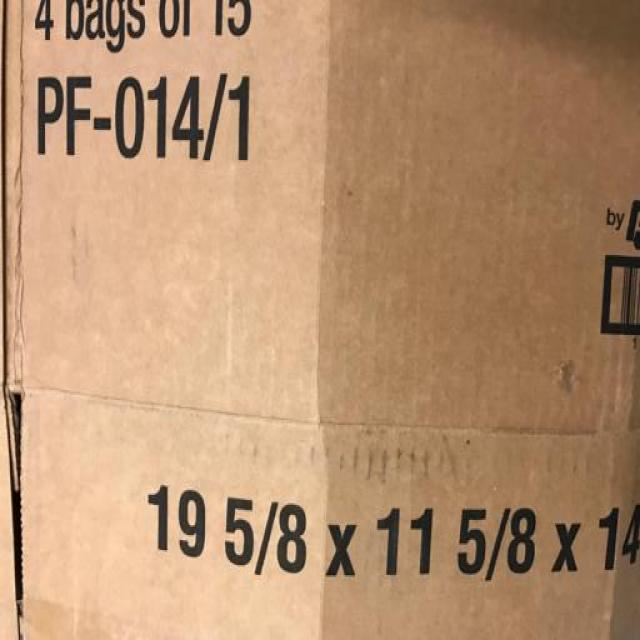cardboard: (2, 1, 636, 640)
